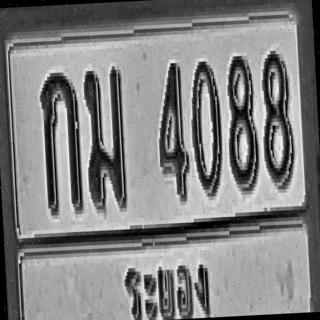A01: (38, 68, 84, 216)
A33: (83, 64, 128, 212)
N00: (188, 57, 224, 197)
N04: (155, 59, 190, 202)
N08: (259, 46, 295, 186), (224, 52, 259, 192)
